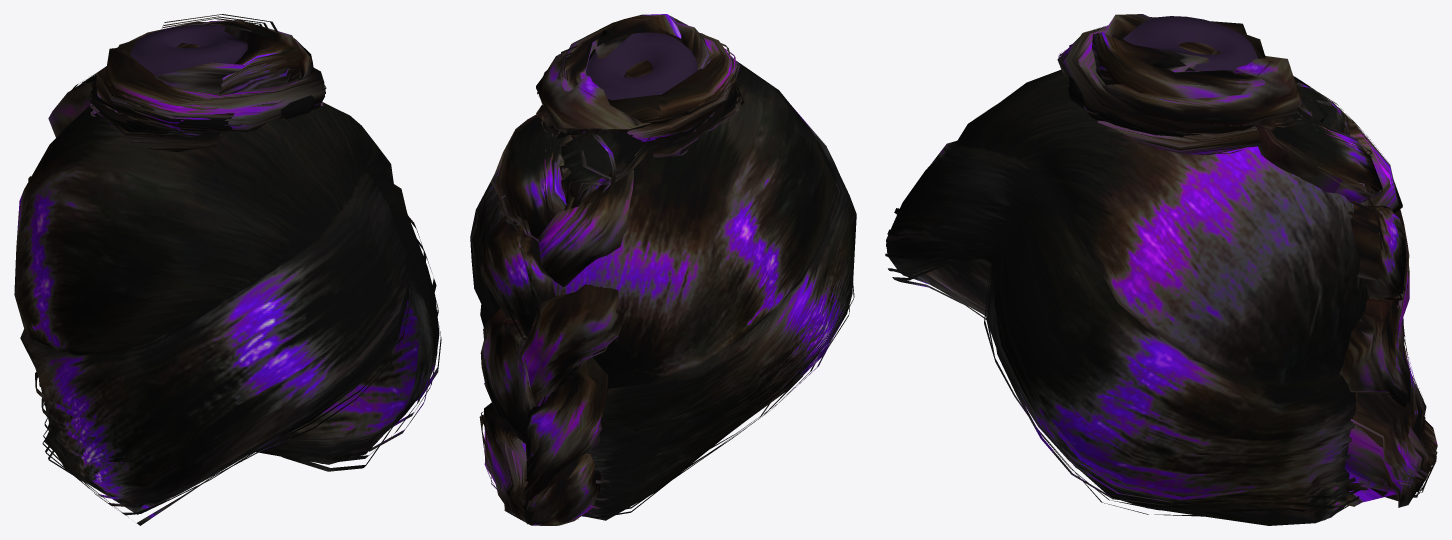
The model's file is mh_elvs_reverse_french_braid_bun.glb.
The picture shows the model from 3 angles, left to right: view 1: azimuth 30°, elevation 25°; view 2: azimuth 150°, elevation 25°; view 3: azimuth 270°, elevation 25°; orthographic projection. The views are drawn at different scales.
Parts seen in each view (by area): view 1: mh_elvs_reverse_french_braid_bun; view 2: mh_elvs_reverse_french_braid_bun; view 3: mh_elvs_reverse_french_braid_bun.
Boxes of the visible parts, left/top/right/bottom form: mh_elvs_reverse_french_braid_bun: left=14, top=14, right=441, bottom=525; mh_elvs_reverse_french_braid_bun: left=470, top=14, right=856, bottom=525; mh_elvs_reverse_french_braid_bun: left=885, top=14, right=1437, bottom=525.
Size of the model in its own units: 0.1984 by 0.268 by 0.2875.
1 material, 1 textured.
